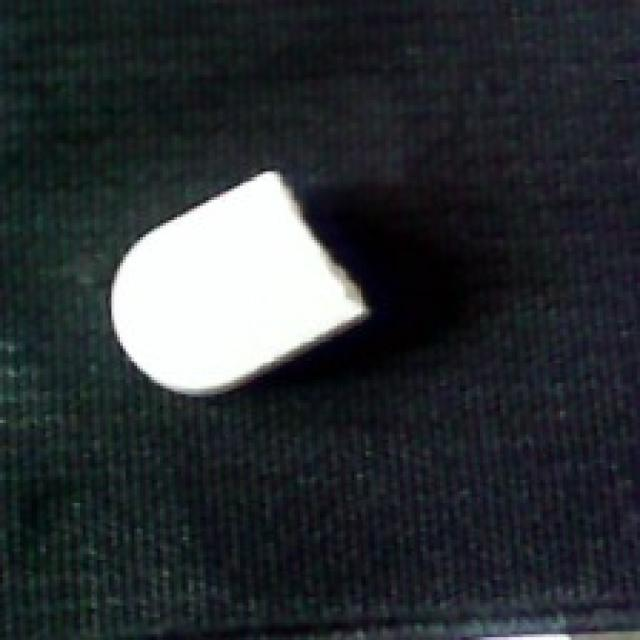defected: (103, 163, 374, 406)
